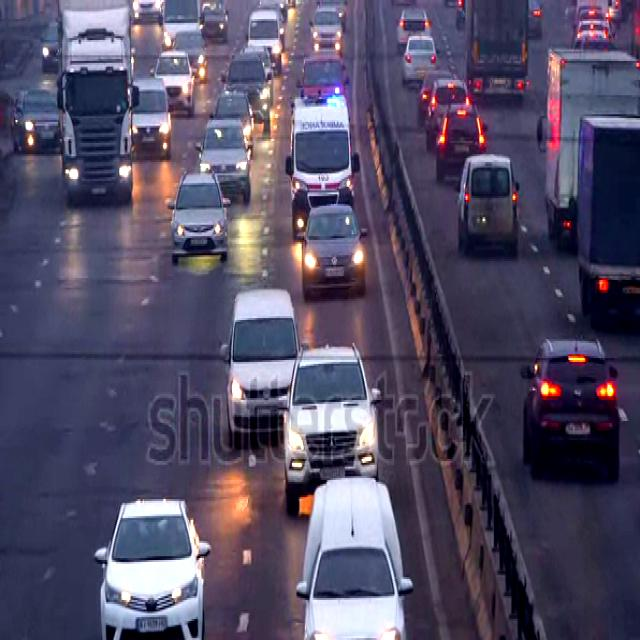ambulance: (286, 95, 364, 240)
